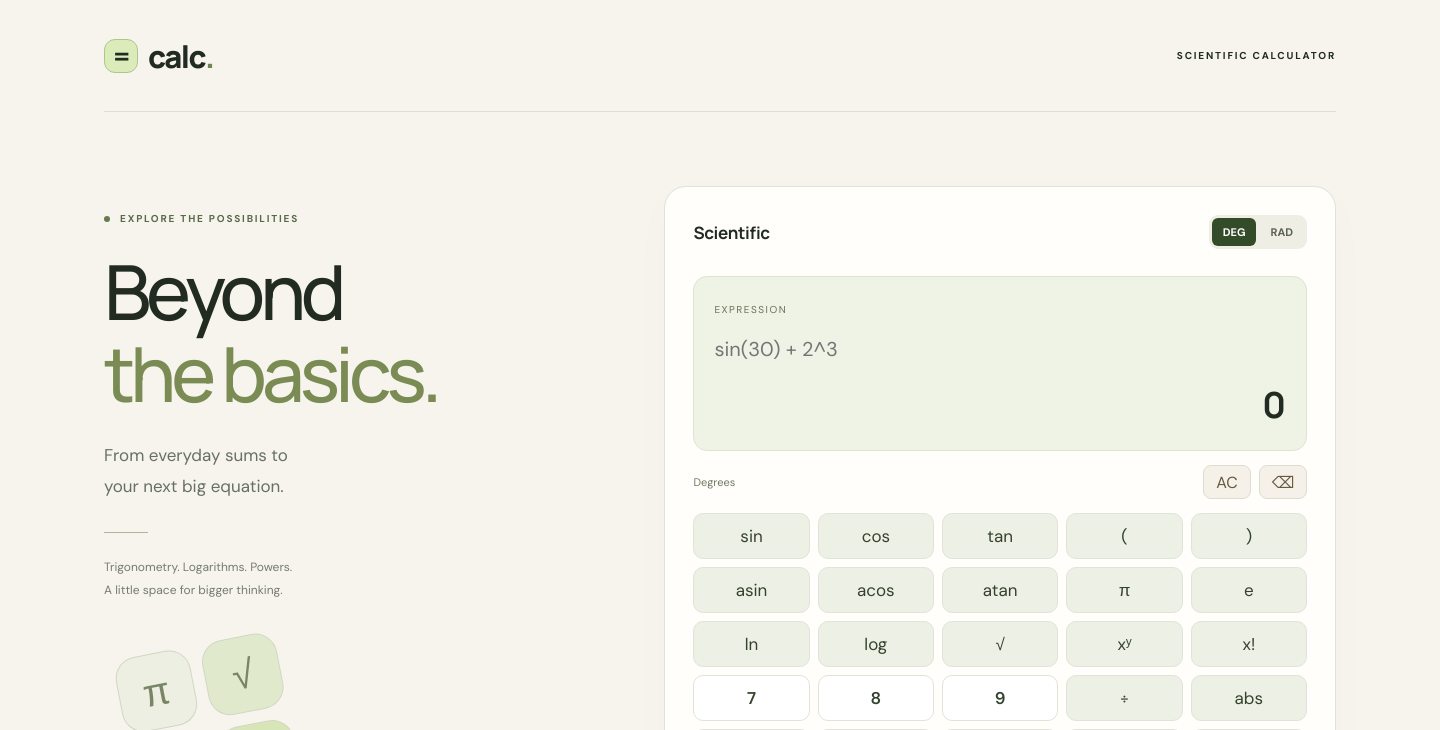
scientific calculator › inserts keypad functions and replaces selected text
This screenshot has width=1440, height=730.
Click the button "sin".
click(752, 536)  # box [693,513,810,559]
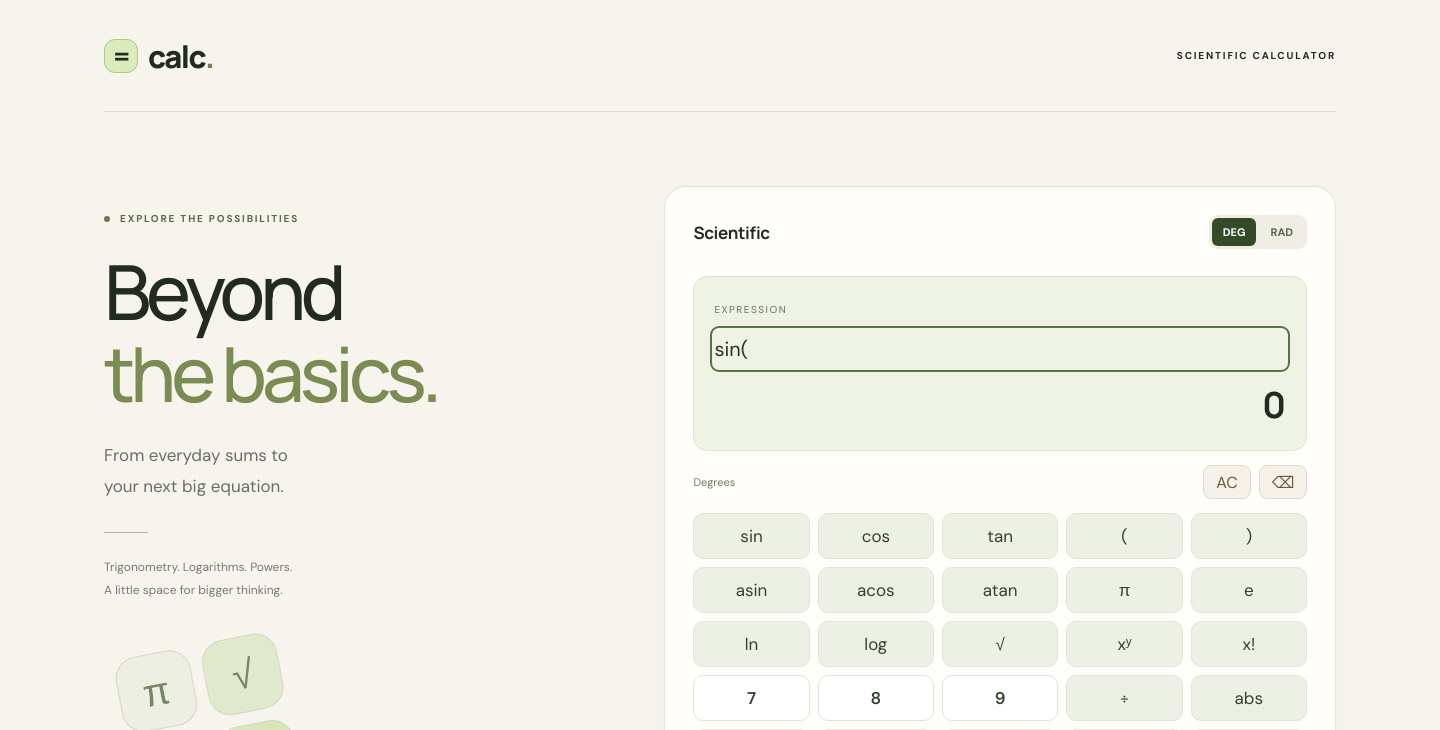
Check: the field labelled "EXPRESSION" holds "sin("
Replace the text in the field labelled "EXPRESSION" with "12" at (1000, 349), box [714,330,1286,368]
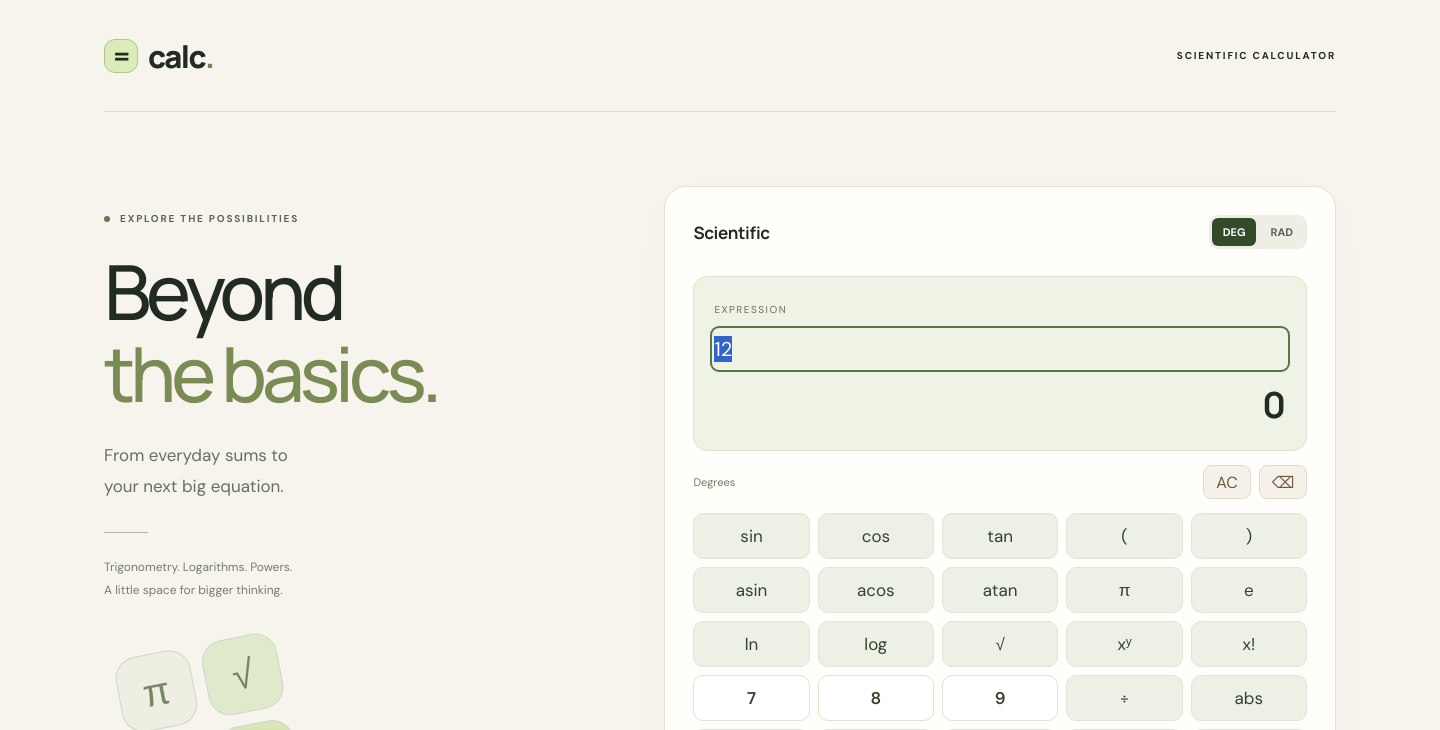
Click the button "π".
click(1124, 590)  # box [1066,567,1183,613]
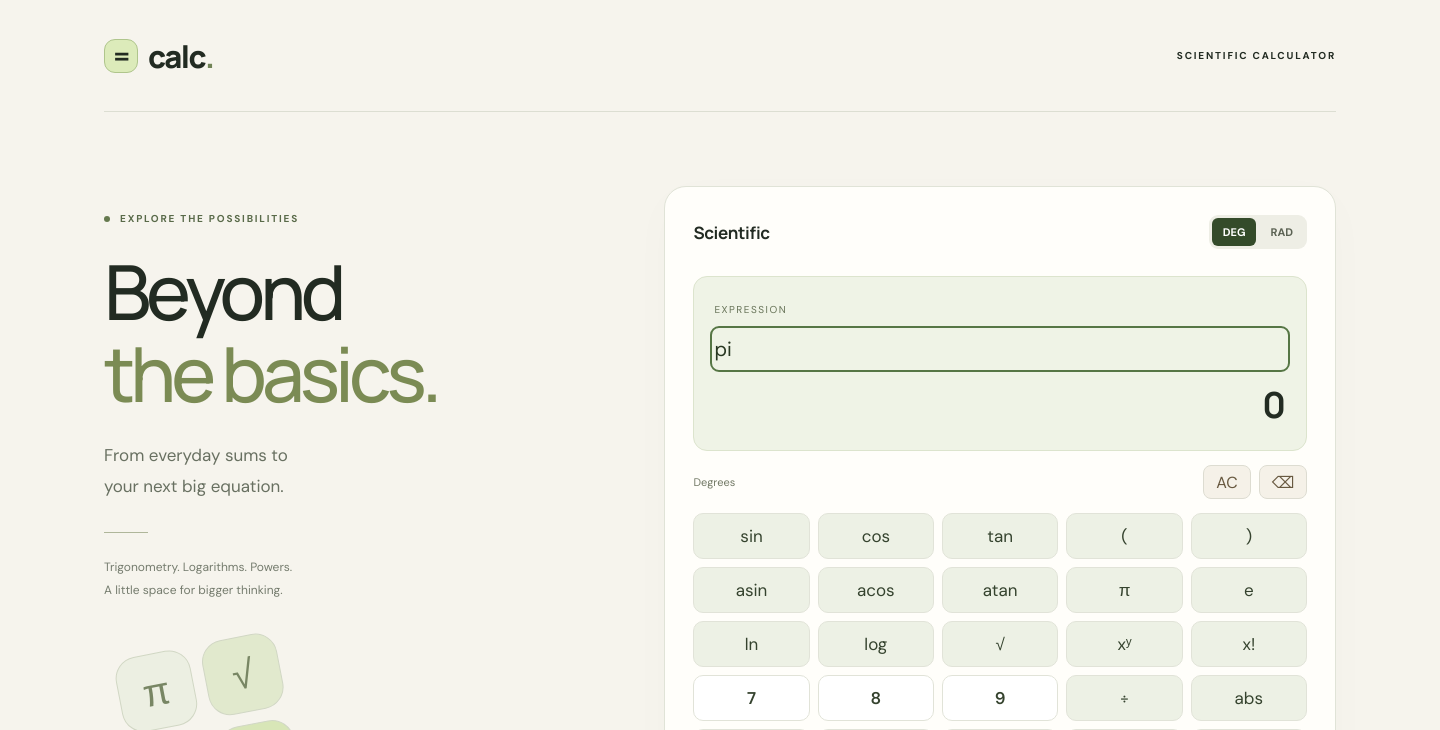
Check: the field labelled "EXPRESSION" holds "pi", box [714,330,1286,368]
